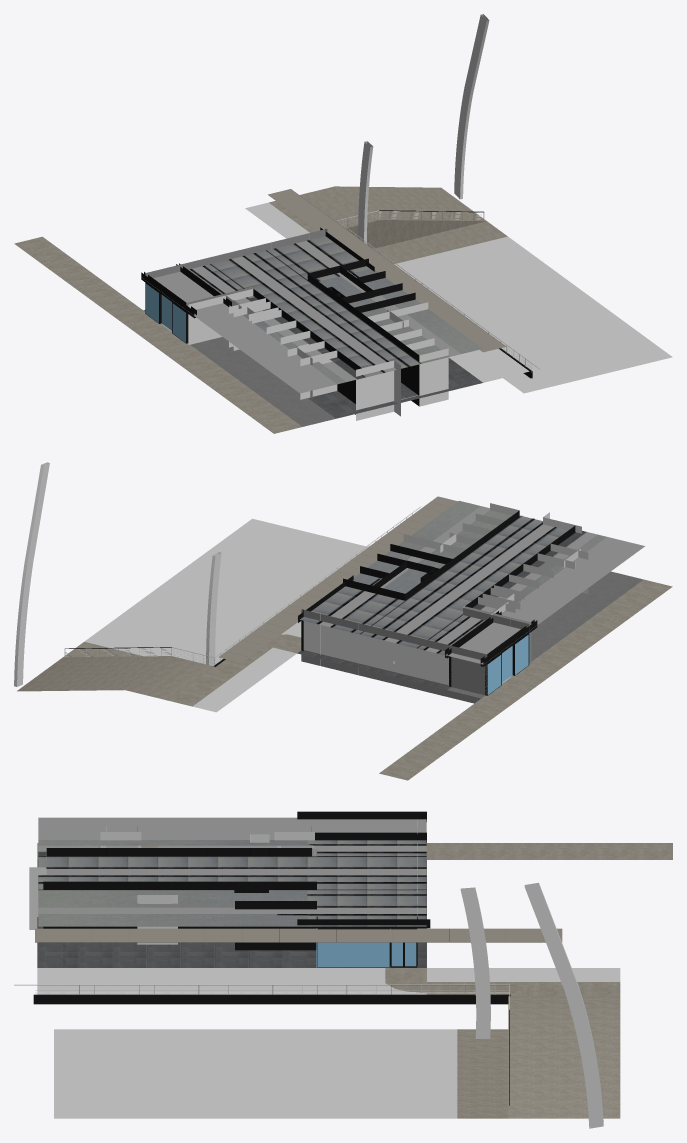
File: Holl_Valdebebas.FBX
3 views of the same model, one above another, from view 1: azimuth 30°, elevation 25°; view 2: azimuth 150°, elevation 25°; view 3: azimuth 270°, elevation 25° (orthographic). The views are drawn at different scales.
Visible parts, largest first — view 1: wall_module_valdebebas_holl; view 2: wall_module_valdebebas_holl; view 3: wall_module_valdebebas_holl.
Boxes of the visible parts, x1,y1,x2,y2 form: wall_module_valdebebas_holl: (14, 14, 672, 433); wall_module_valdebebas_holl: (14, 462, 672, 780); wall_module_valdebebas_holl: (14, 811, 672, 1128).
Size of the model in its own units: 4515 by 2079 by 5082.
